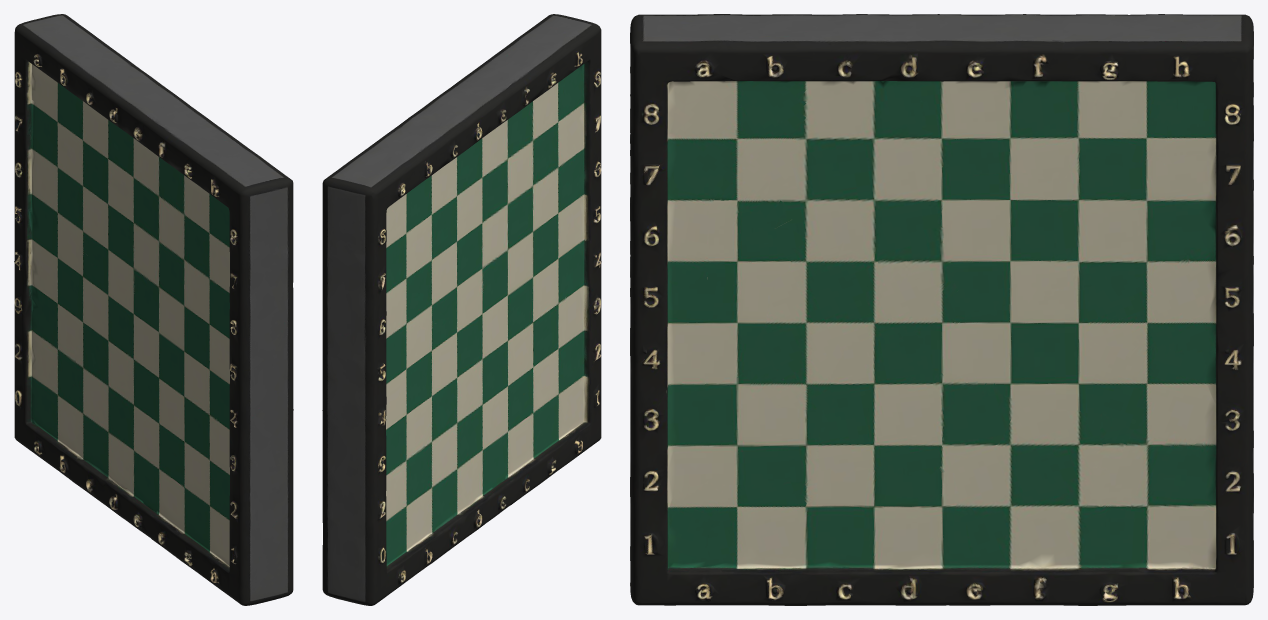
Rendered from chess-board.glb.
The picture shows the model from 3 angles, left to right: view 1: azimuth 30°, elevation 25°; view 2: azimuth 150°, elevation 25°; view 3: azimuth 270°, elevation 25°; orthographic projection. The views are drawn at different scales.
Visible parts, largest first — view 1: tripo_node_a87d12ad-30da-49d4-ad9a-682ecbe4d454; view 2: tripo_node_a87d12ad-30da-49d4-ad9a-682ecbe4d454; view 3: tripo_node_a87d12ad-30da-49d4-ad9a-682ecbe4d454.
Boxes of the visible parts, bbox=[...] form: tripo_node_a87d12ad-30da-49d4-ad9a-682ecbe4d454: bbox=[14, 14, 293, 605]; tripo_node_a87d12ad-30da-49d4-ad9a-682ecbe4d454: bbox=[322, 14, 601, 605]; tripo_node_a87d12ad-30da-49d4-ad9a-682ecbe4d454: bbox=[630, 14, 1253, 605].
Bounding box in the file's own units: 0.1498 × 0.999 × 1.
Materials: 1 (1 with a texture image).
